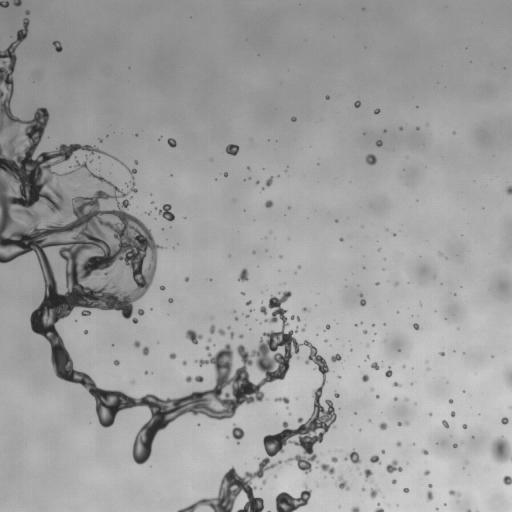droplet: (490, 436, 511, 463), (157, 204, 174, 221), (231, 424, 244, 443), (186, 329, 202, 344), (344, 450, 360, 463), (386, 460, 402, 473), (338, 476, 349, 490), (226, 144, 239, 155), (238, 268, 248, 281), (365, 154, 376, 165), (52, 41, 62, 52), (370, 455, 381, 464), (502, 475, 511, 485), (364, 469, 372, 480), (167, 138, 176, 147), (370, 489, 378, 498), (331, 354, 341, 361), (0, 0, 9, 7), (371, 362, 380, 369), (385, 368, 392, 377), (426, 491, 433, 500), (449, 490, 459, 496), (374, 505, 384, 511), (265, 200, 273, 207), (142, 347, 149, 355), (442, 420, 449, 428), (379, 422, 387, 429), (266, 177, 272, 186), (129, 169, 136, 176), (218, 328, 225, 335), (362, 374, 369, 381), (501, 417, 508, 424), (13, 0, 21, 6), (209, 325, 215, 333), (413, 323, 419, 330), (506, 186, 511, 194), (354, 101, 360, 107), (374, 108, 380, 114), (376, 140, 382, 146), (138, 309, 144, 315), (134, 341, 140, 347), (169, 353, 175, 359), (351, 507, 359, 511), (113, 360, 119, 365), (422, 449, 428, 454), (331, 457, 337, 462), (393, 382, 400, 386), (246, 300, 251, 305), (132, 318, 137, 323), (334, 392, 339, 397), (396, 441, 401, 446), (424, 470, 429, 475), (302, 307, 308, 311), (230, 332, 234, 338), (403, 488, 409, 492), (291, 117, 296, 121), (182, 360, 186, 365), (451, 411, 455, 416), (462, 424, 467, 428), (25, 10, 29, 14), (325, 95, 329, 99), (160, 286, 164, 290), (168, 298, 172, 302), (326, 325, 330, 329), (239, 334, 243, 338), (449, 399, 453, 403), (397, 422, 401, 426), (453, 443, 457, 447), (392, 479, 396, 483), (339, 238, 343, 241), (185, 277, 188, 281), (440, 352, 444, 355), (262, 480, 266, 483), (466, 509, 471, 511), (224, 173, 227, 176), (84, 330, 87, 333), (363, 330, 366, 333), (394, 397, 397, 400), (381, 450, 384, 453), (362, 487, 364, 491), (399, 127, 402, 129), (134, 161, 137, 163), (335, 219, 337, 222), (252, 251, 255, 253), (241, 292, 244, 294), (235, 317, 237, 320), (302, 328, 304, 331), (208, 339, 211, 341), (376, 395, 379, 397), (429, 484, 431, 487), (99, 139, 101, 141), (247, 167, 249, 169), (147, 212, 149, 214), (439, 252, 441, 254), (376, 282, 378, 284), (251, 309, 253, 311), (246, 314, 248, 316), (367, 355, 369, 357), (338, 376, 340, 378)
ligament: (0, 18, 332, 511), (275, 485, 311, 511), (111, 156, 126, 167), (504, 367, 511, 387), (186, 375, 203, 382), (275, 397, 289, 404), (359, 294, 366, 306), (291, 316, 300, 320)
